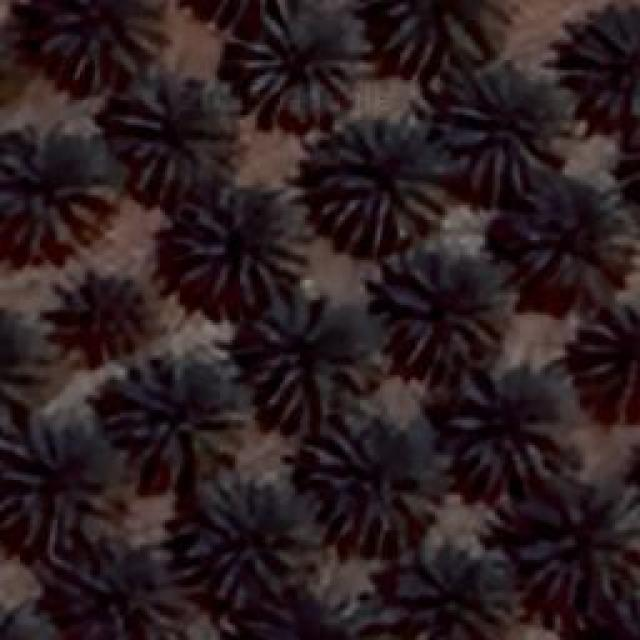PalmTree: (302, 112, 448, 252), (508, 478, 638, 624), (247, 288, 375, 430), (304, 420, 438, 552), (2, 415, 130, 550), (170, 185, 308, 310), (108, 62, 242, 190), (230, 5, 360, 120), (178, 478, 300, 600), (114, 348, 238, 468), (372, 257, 506, 365), (512, 170, 638, 282), (2, 135, 116, 255), (445, 68, 545, 202), (445, 370, 553, 492), (395, 538, 515, 638), (26, 0, 156, 90), (44, 550, 172, 640), (213, 578, 384, 640), (382, 0, 510, 78), (560, 18, 638, 118), (58, 278, 148, 358), (578, 297, 638, 405), (0, 313, 60, 410), (174, 0, 314, 36), (547, 599, 640, 640), (611, 112, 640, 215), (0, 591, 57, 640)
